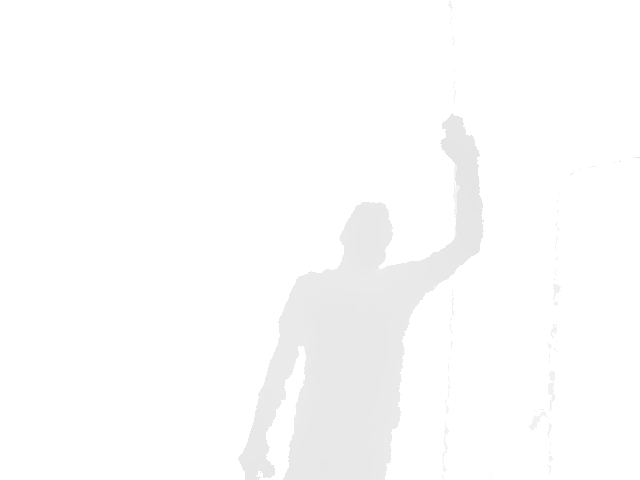hand: (439, 113, 481, 161)
head: (338, 202, 394, 266)
person: (236, 112, 484, 479)
